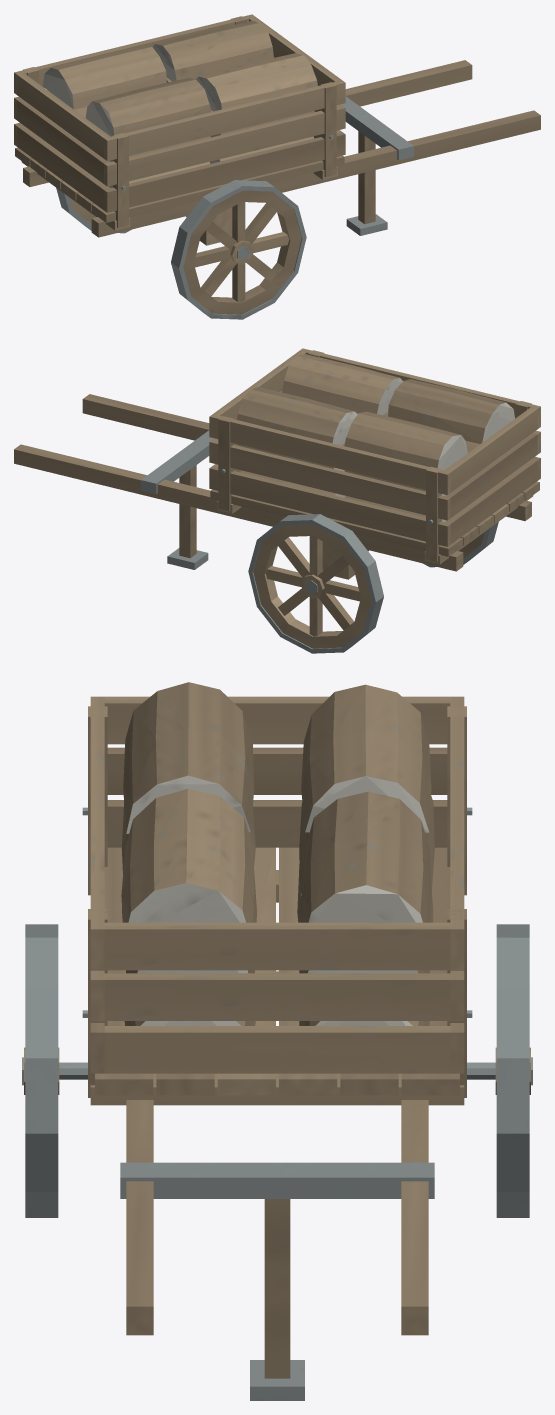
File: farmland_wood_cart_loaded.glb
3 renders of one model, top to bottom at view 1: azimuth 30°, elevation 25°; view 2: azimuth 150°, elevation 25°; view 3: azimuth 270°, elevation 25°, orthographic. The views are drawn at different scales.
Parts seen in each view (by area): view 1: WoodCartLoaded; view 2: WoodCartLoaded; view 3: WoodCartLoaded.
Boxes of the visible parts, bbox=[...] form: WoodCartLoaded: bbox=[14, 14, 540, 319]; WoodCartLoaded: bbox=[14, 348, 540, 653]; WoodCartLoaded: bbox=[22, 682, 532, 1400].
Size of what is drawn, in the model's own units: 2.6 by 1.19 by 1.3.
1 material, 1 textured.
